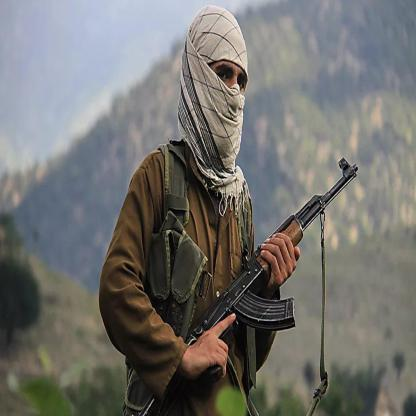rifle: (176, 153, 362, 380)
